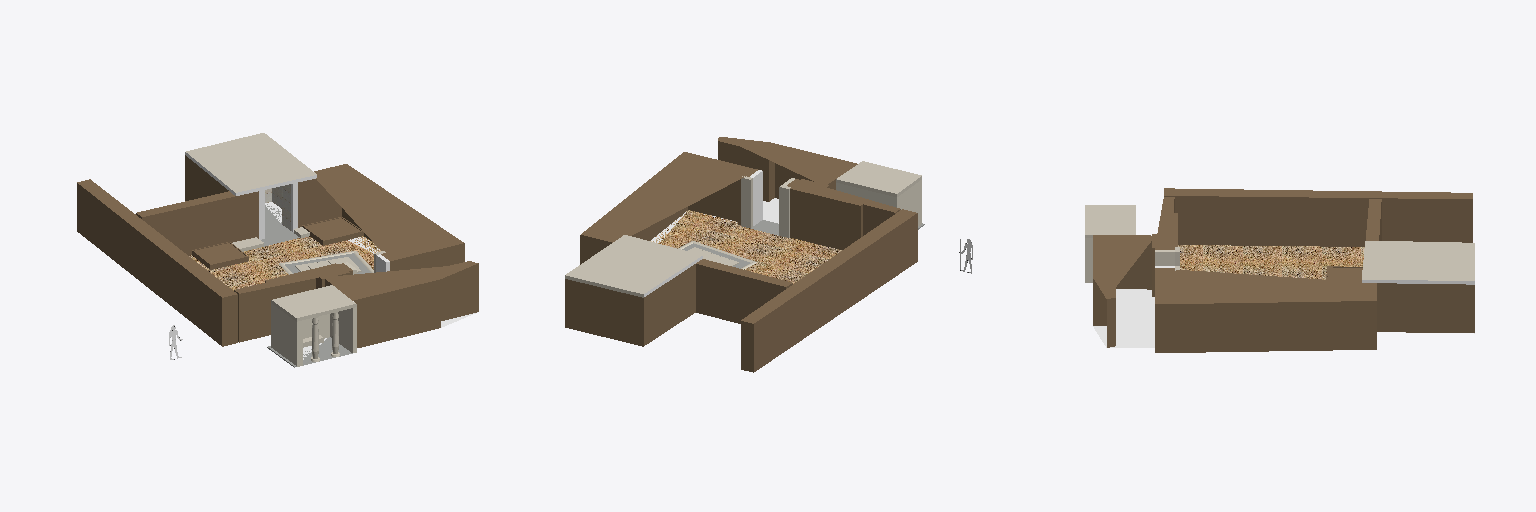
3 renders of one model, left to right at view 1: azimuth 30°, elevation 25°; view 2: azimuth 150°, elevation 25°; view 3: azimuth 270°, elevation 25°, orthographic.
Parts seen in each view (by area): view 1: Mesh1 Model; view 2: Mesh1 Model; view 3: Mesh1 Model.
Boxes of the visible parts, x1,y1,x2,y2 form: Mesh1 Model: [77, 133, 478, 367]; Mesh1 Model: [565, 137, 924, 372]; Mesh1 Model: [1085, 188, 1474, 352].
Bounding box in the file's own units: 14.22 × 2.45 × 16.42.
9 materials, 3 textured.